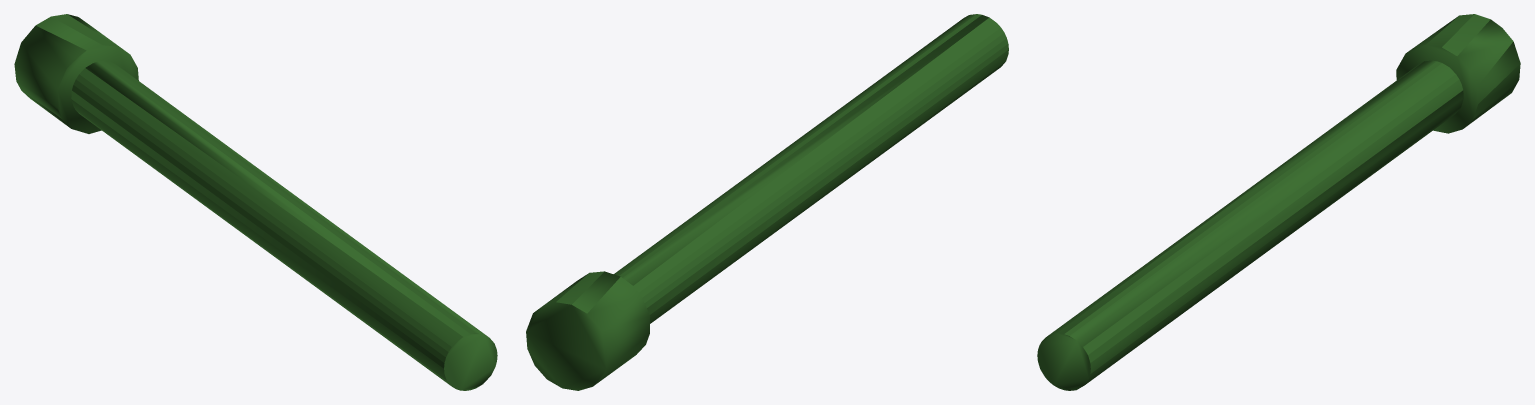
Rendered from T-34MainGun.obj.
3 views of the same model, side by side, from view 1: azimuth 30°, elevation 25°; view 2: azimuth 150°, elevation 25°; view 3: azimuth 330°, elevation 25° (orthographic).
Parts seen in each view (by area): view 1: 円柱.008, 円柱.009; view 2: 円柱.008, 円柱.009; view 3: 円柱.008, 円柱.009.
Boxes of the visible parts, x1,y1,x2,y2 form: 円柱.008: [71, 60, 497, 390]; 円柱.009: [14, 14, 138, 133]; 円柱.008: [614, 14, 1008, 323]; 円柱.009: [526, 271, 650, 390]; 円柱.008: [1037, 60, 1463, 390]; 円柱.009: [1396, 14, 1520, 133].
Size of the model in its own units: 0.5597 by 0.5587 by 4.89.
1 material, 1 textured.
